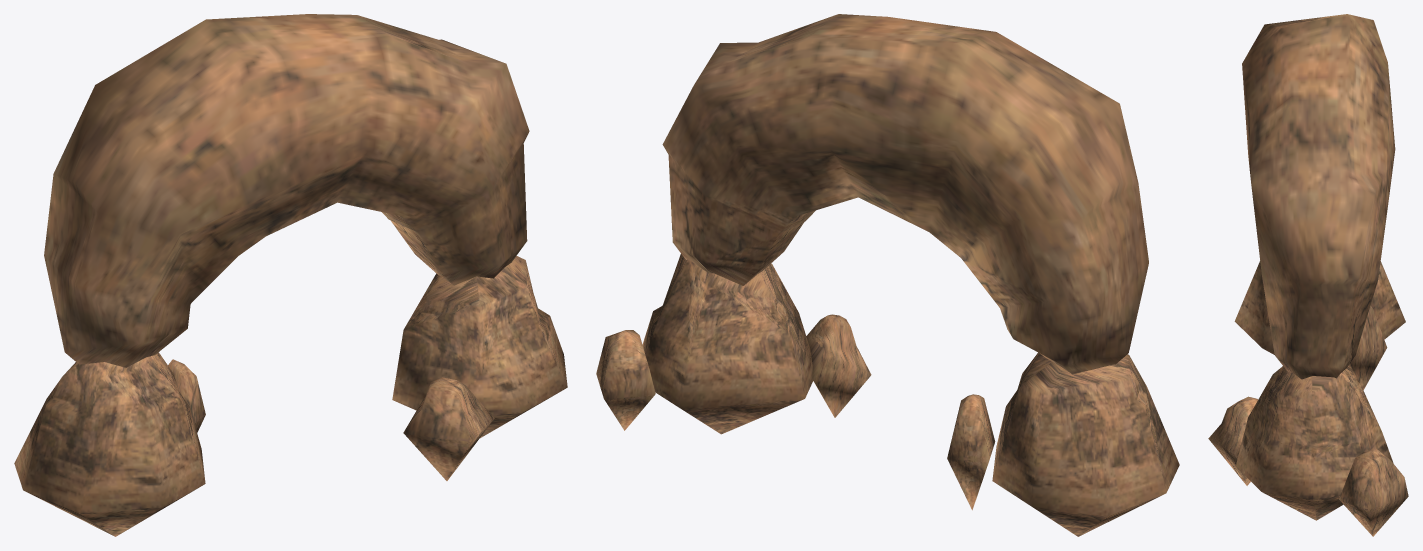
Rendered from rock_tatt_arch_med_l3.fbx.
3 views of the same model, side by side, from view 1: azimuth 30°, elevation 25°; view 2: azimuth 150°, elevation 25°; view 3: azimuth 270°, elevation 25° (orthographic). The views are drawn at different scales.
Parts seen in each view (by area): view 1: mesh_node; view 2: mesh_node; view 3: mesh_node.
Part boxes in pixels (x1,y1,x2,y2): mesh_node: (14,14,567,536); mesh_node: (596,14,1179,536); mesh_node: (1208,14,1408,536).
Size of the model in its own units: 52.02 by 43.67 by 19.31.
